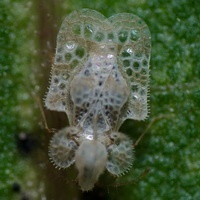insect: (45, 9, 150, 190)
